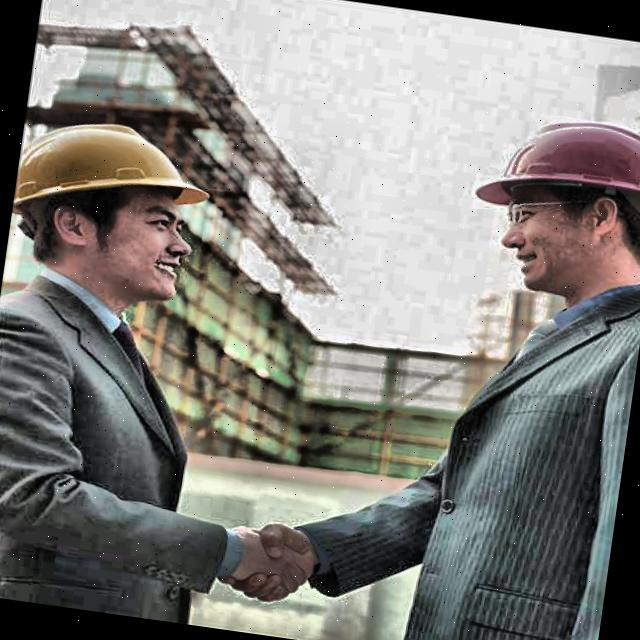helmet: (0, 84, 240, 331), (449, 77, 640, 338)
